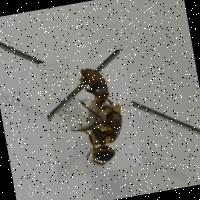Oriental-fruit-fly: (38, 48, 143, 180)
